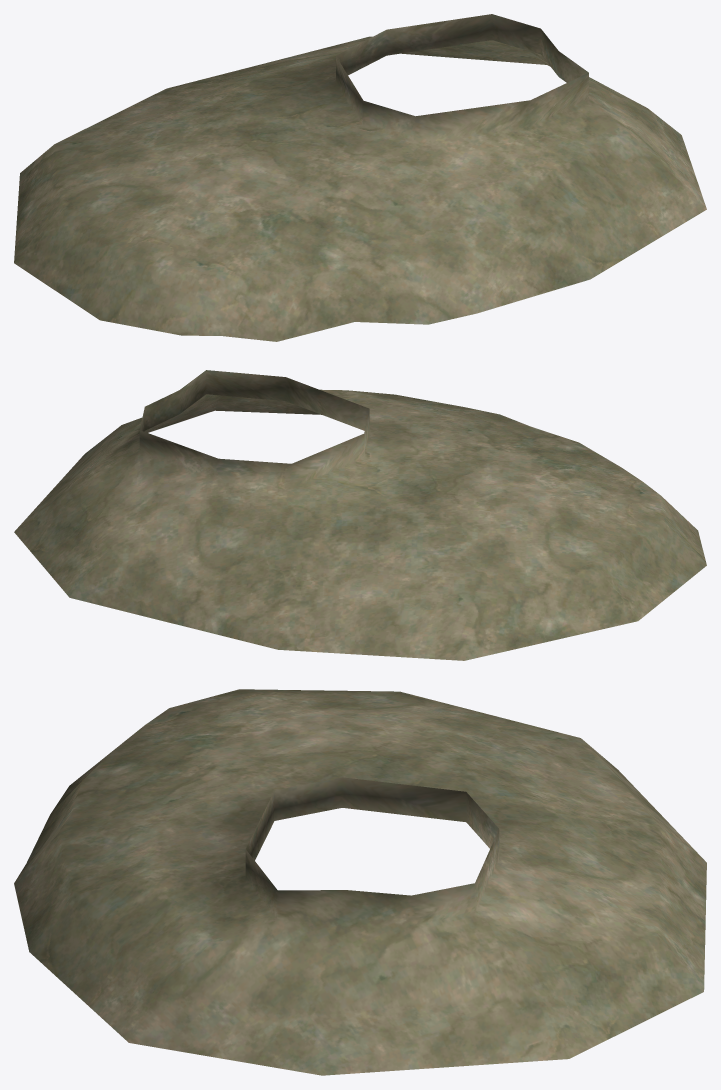
File: OVERHILL_A_01_OBJECT05.fbx
The picture shows the model from 3 angles, top to bottom: view 1: azimuth 30°, elevation 25°; view 2: azimuth 150°, elevation 25°; view 3: azimuth 270°, elevation 25°; orthographic projection. The views are drawn at different scales.
Visible parts, largest first — view 1: OVERHILL_A_01_OBJECT05; view 2: OVERHILL_A_01_OBJECT05; view 3: OVERHILL_A_01_OBJECT05.
Boxes of the visible parts, x1,y1,x2,y2 form: OVERHILL_A_01_OBJECT05: [14, 14, 706, 341]; OVERHILL_A_01_OBJECT05: [14, 370, 706, 660]; OVERHILL_A_01_OBJECT05: [14, 689, 706, 1075].
Size of the model in its own units: 77513 by 12664 by 62851.
1 material, 1 textured.
